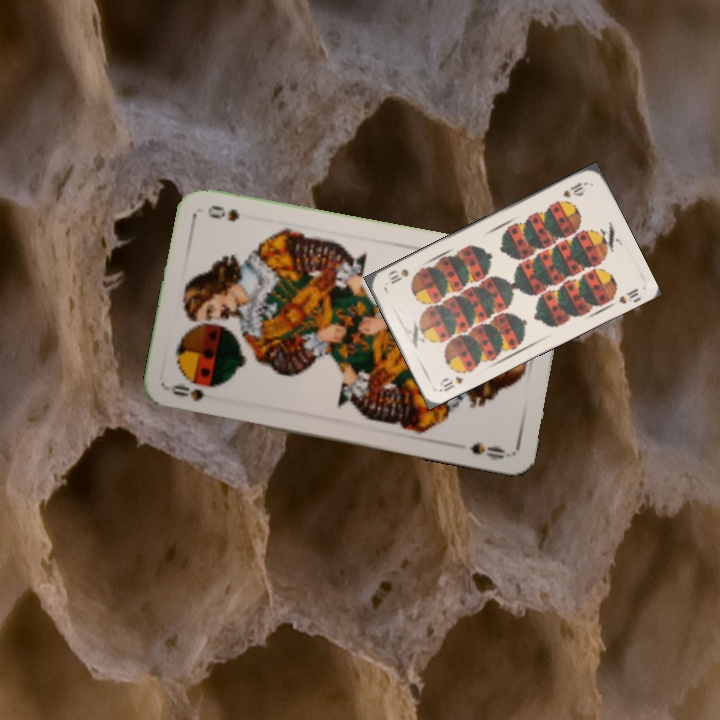S10: (559, 178, 589, 201), (436, 372, 466, 394)
SO: (167, 380, 207, 404)
